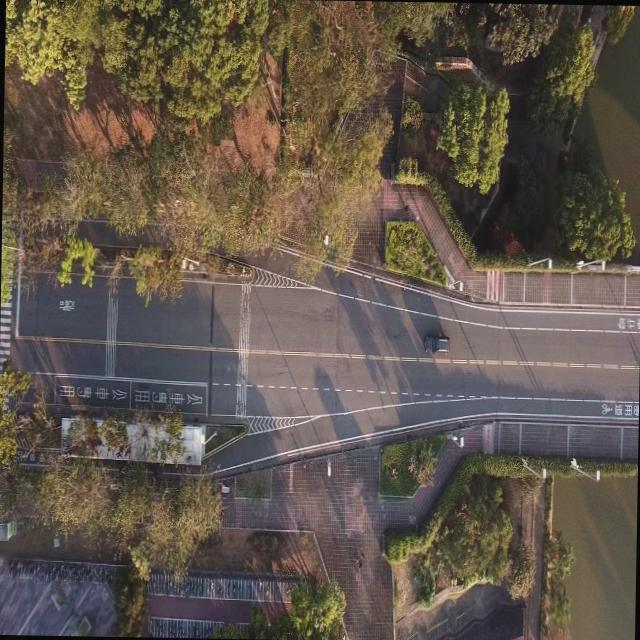car: (422, 332, 449, 353)
